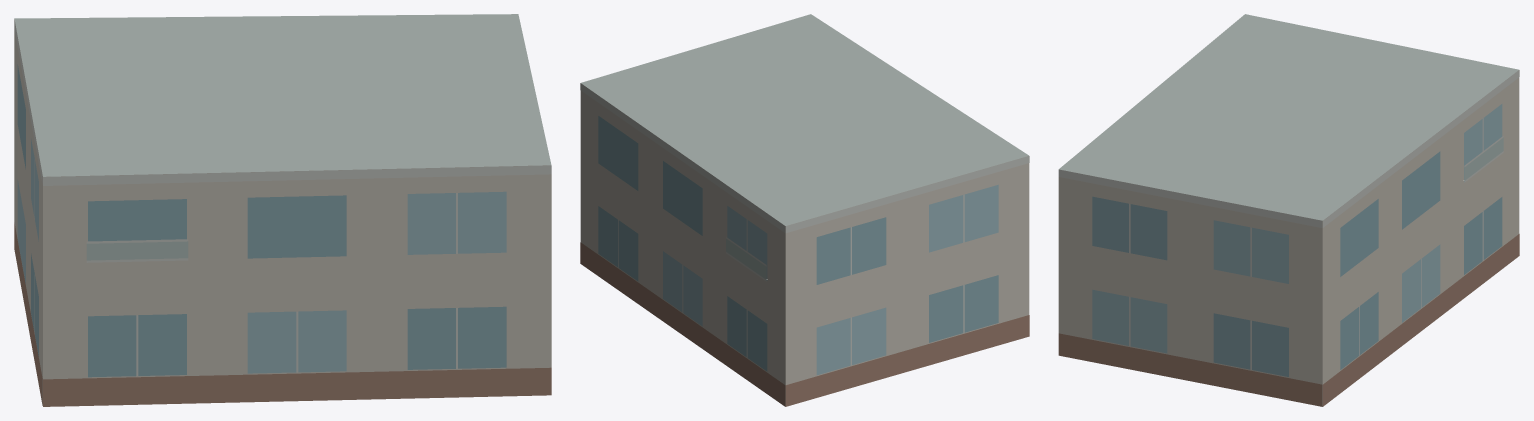
The model's file is survey-upis-32650259.glb.
3 renders of one model, left to right at view 1: azimuth 30°, elevation 25°; view 2: azimuth 150°, elevation 25°; view 3: azimuth 270°, elevation 25°, orthographic. The views are drawn at different scales.
Parts seen in each view (by area): view 1: survey-upis-32650259.tmp; view 2: survey-upis-32650259.tmp; view 3: survey-upis-32650259.tmp.
Part boxes in pixels (x1,y1,x2,y2): survey-upis-32650259.tmp: (14,14,551,406); survey-upis-32650259.tmp: (580,14,1029,406); survey-upis-32650259.tmp: (1058,14,1519,406).
Bounding box in the file's own units: 14.54 × 6.1 × 13.7.
